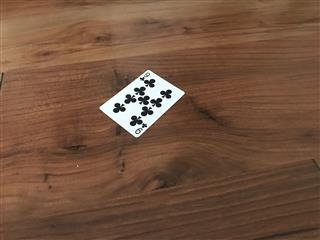NineOfClubs: (97, 68, 186, 139)
